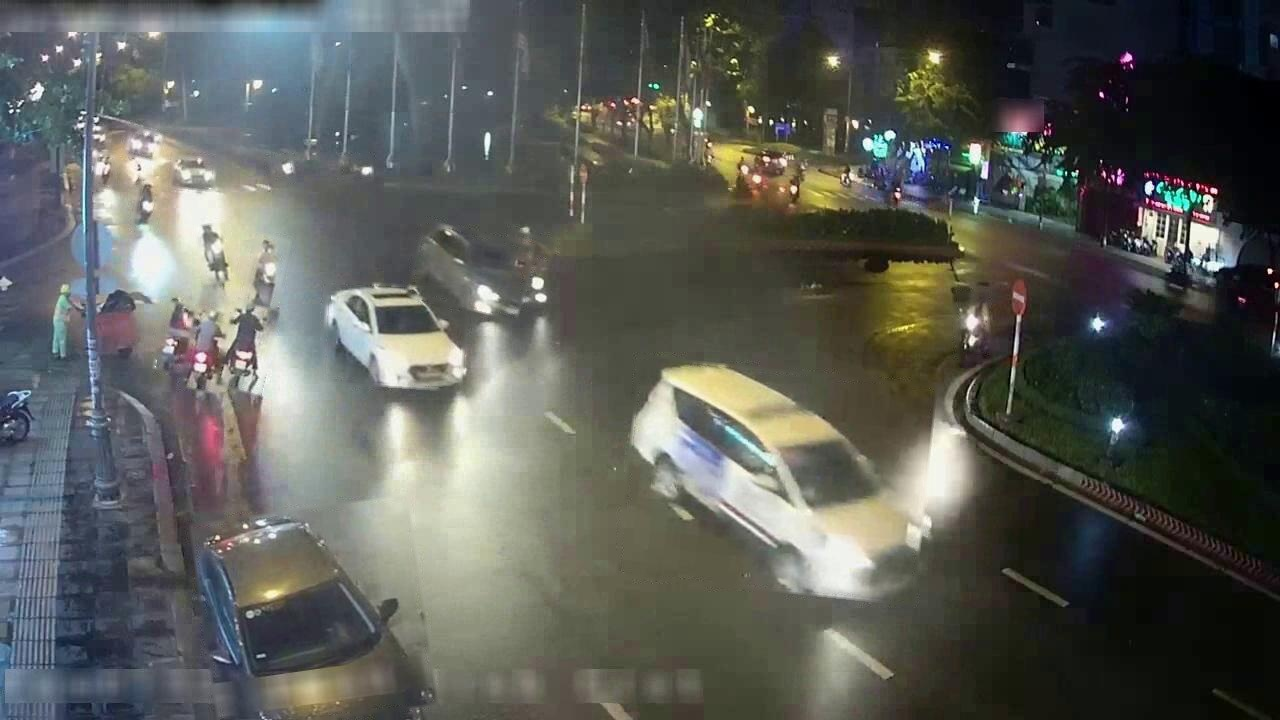Car: (631, 364, 930, 600), (196, 517, 434, 719), (324, 283, 467, 390), (416, 224, 550, 317), (734, 150, 802, 203), (173, 157, 215, 188), (128, 130, 159, 159)
Motorcycle: (0, 389, 32, 444)
Motorcyclist: (224, 303, 265, 395), (953, 287, 991, 364), (189, 311, 223, 392), (157, 298, 193, 372), (251, 239, 278, 309), (202, 224, 228, 284), (511, 232, 552, 265), (339, 158, 374, 184), (136, 183, 155, 226), (268, 157, 295, 182), (94, 153, 111, 183)
Pedestrian: (51, 283, 72, 360)
Sign: (1011, 278, 1027, 316)
